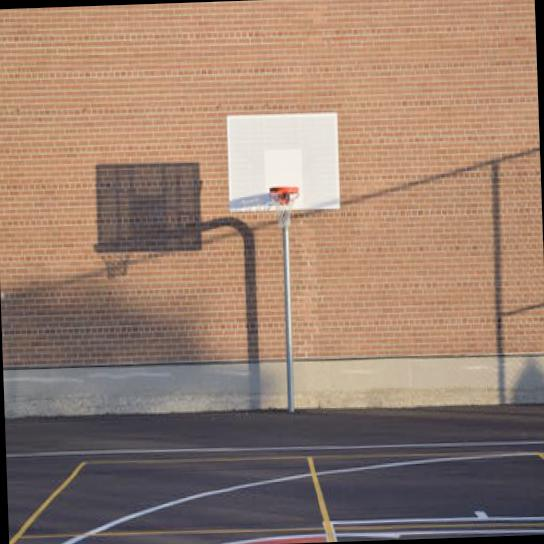basketball-hoop: (268, 183, 302, 230)
